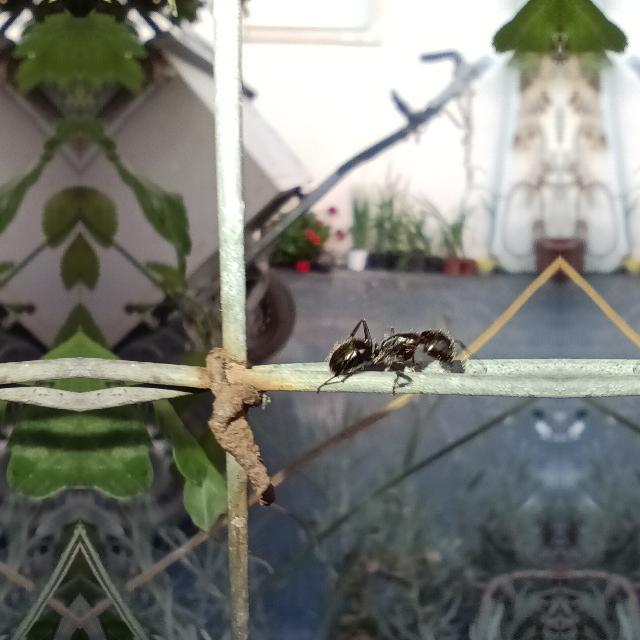Camponotus: (316, 314, 468, 396)
